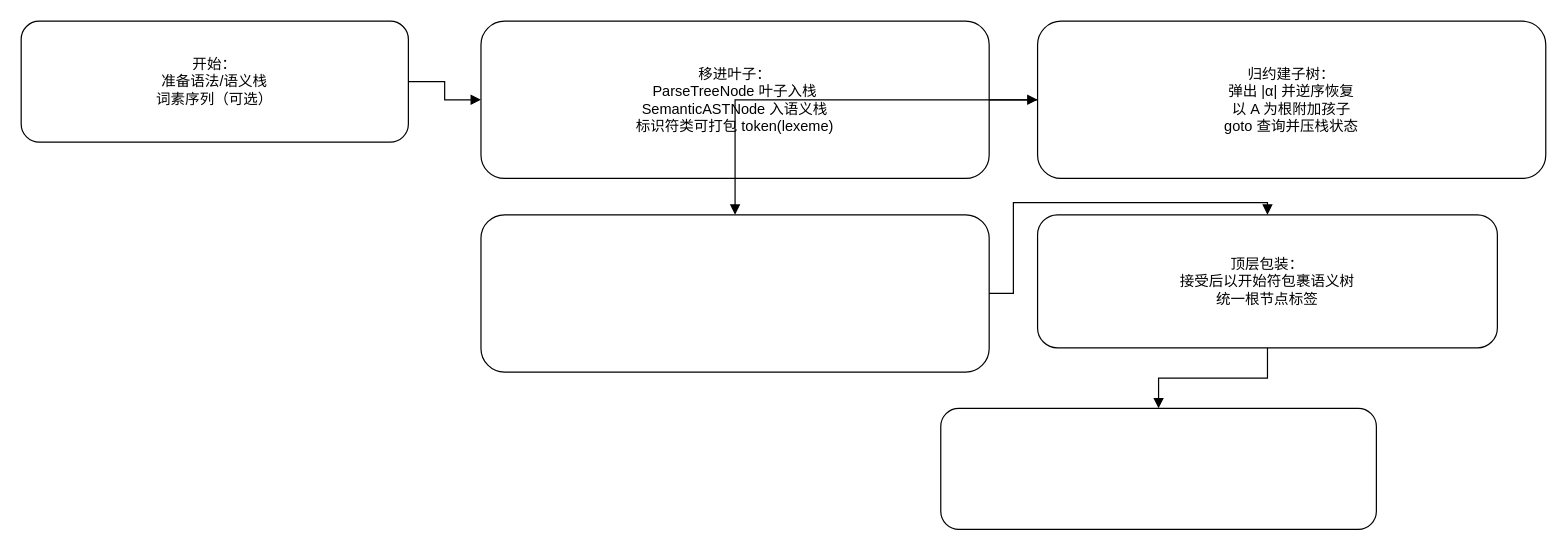
Image size: 1567x551. Some labels were removed from this diagram. Here are the shapes that lost their labels. From the top down, the centre of each, then its label:
At point 734,293: "角色策略： roles/roleMeaning 标注根/孩子/并列兄弟 rootPolicy 选择根位 childOrder 控制孩子顺序".
At point 1158,468: "预览/导出： 生成 DOT 文本 渲染 PNG 或导出文件".
